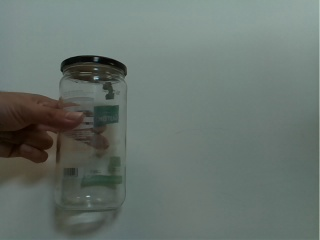pote cristal: (53, 51, 130, 218)
